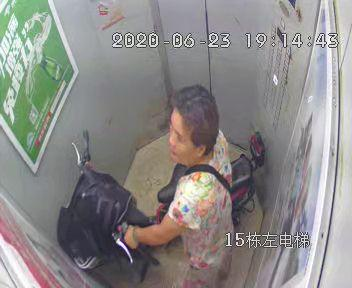Electric-bicycle: (55, 130, 263, 266)
